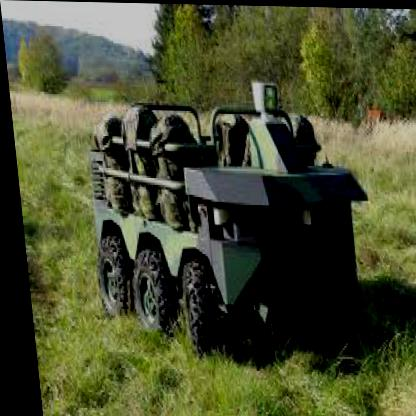UGV: (76, 75, 377, 360)
